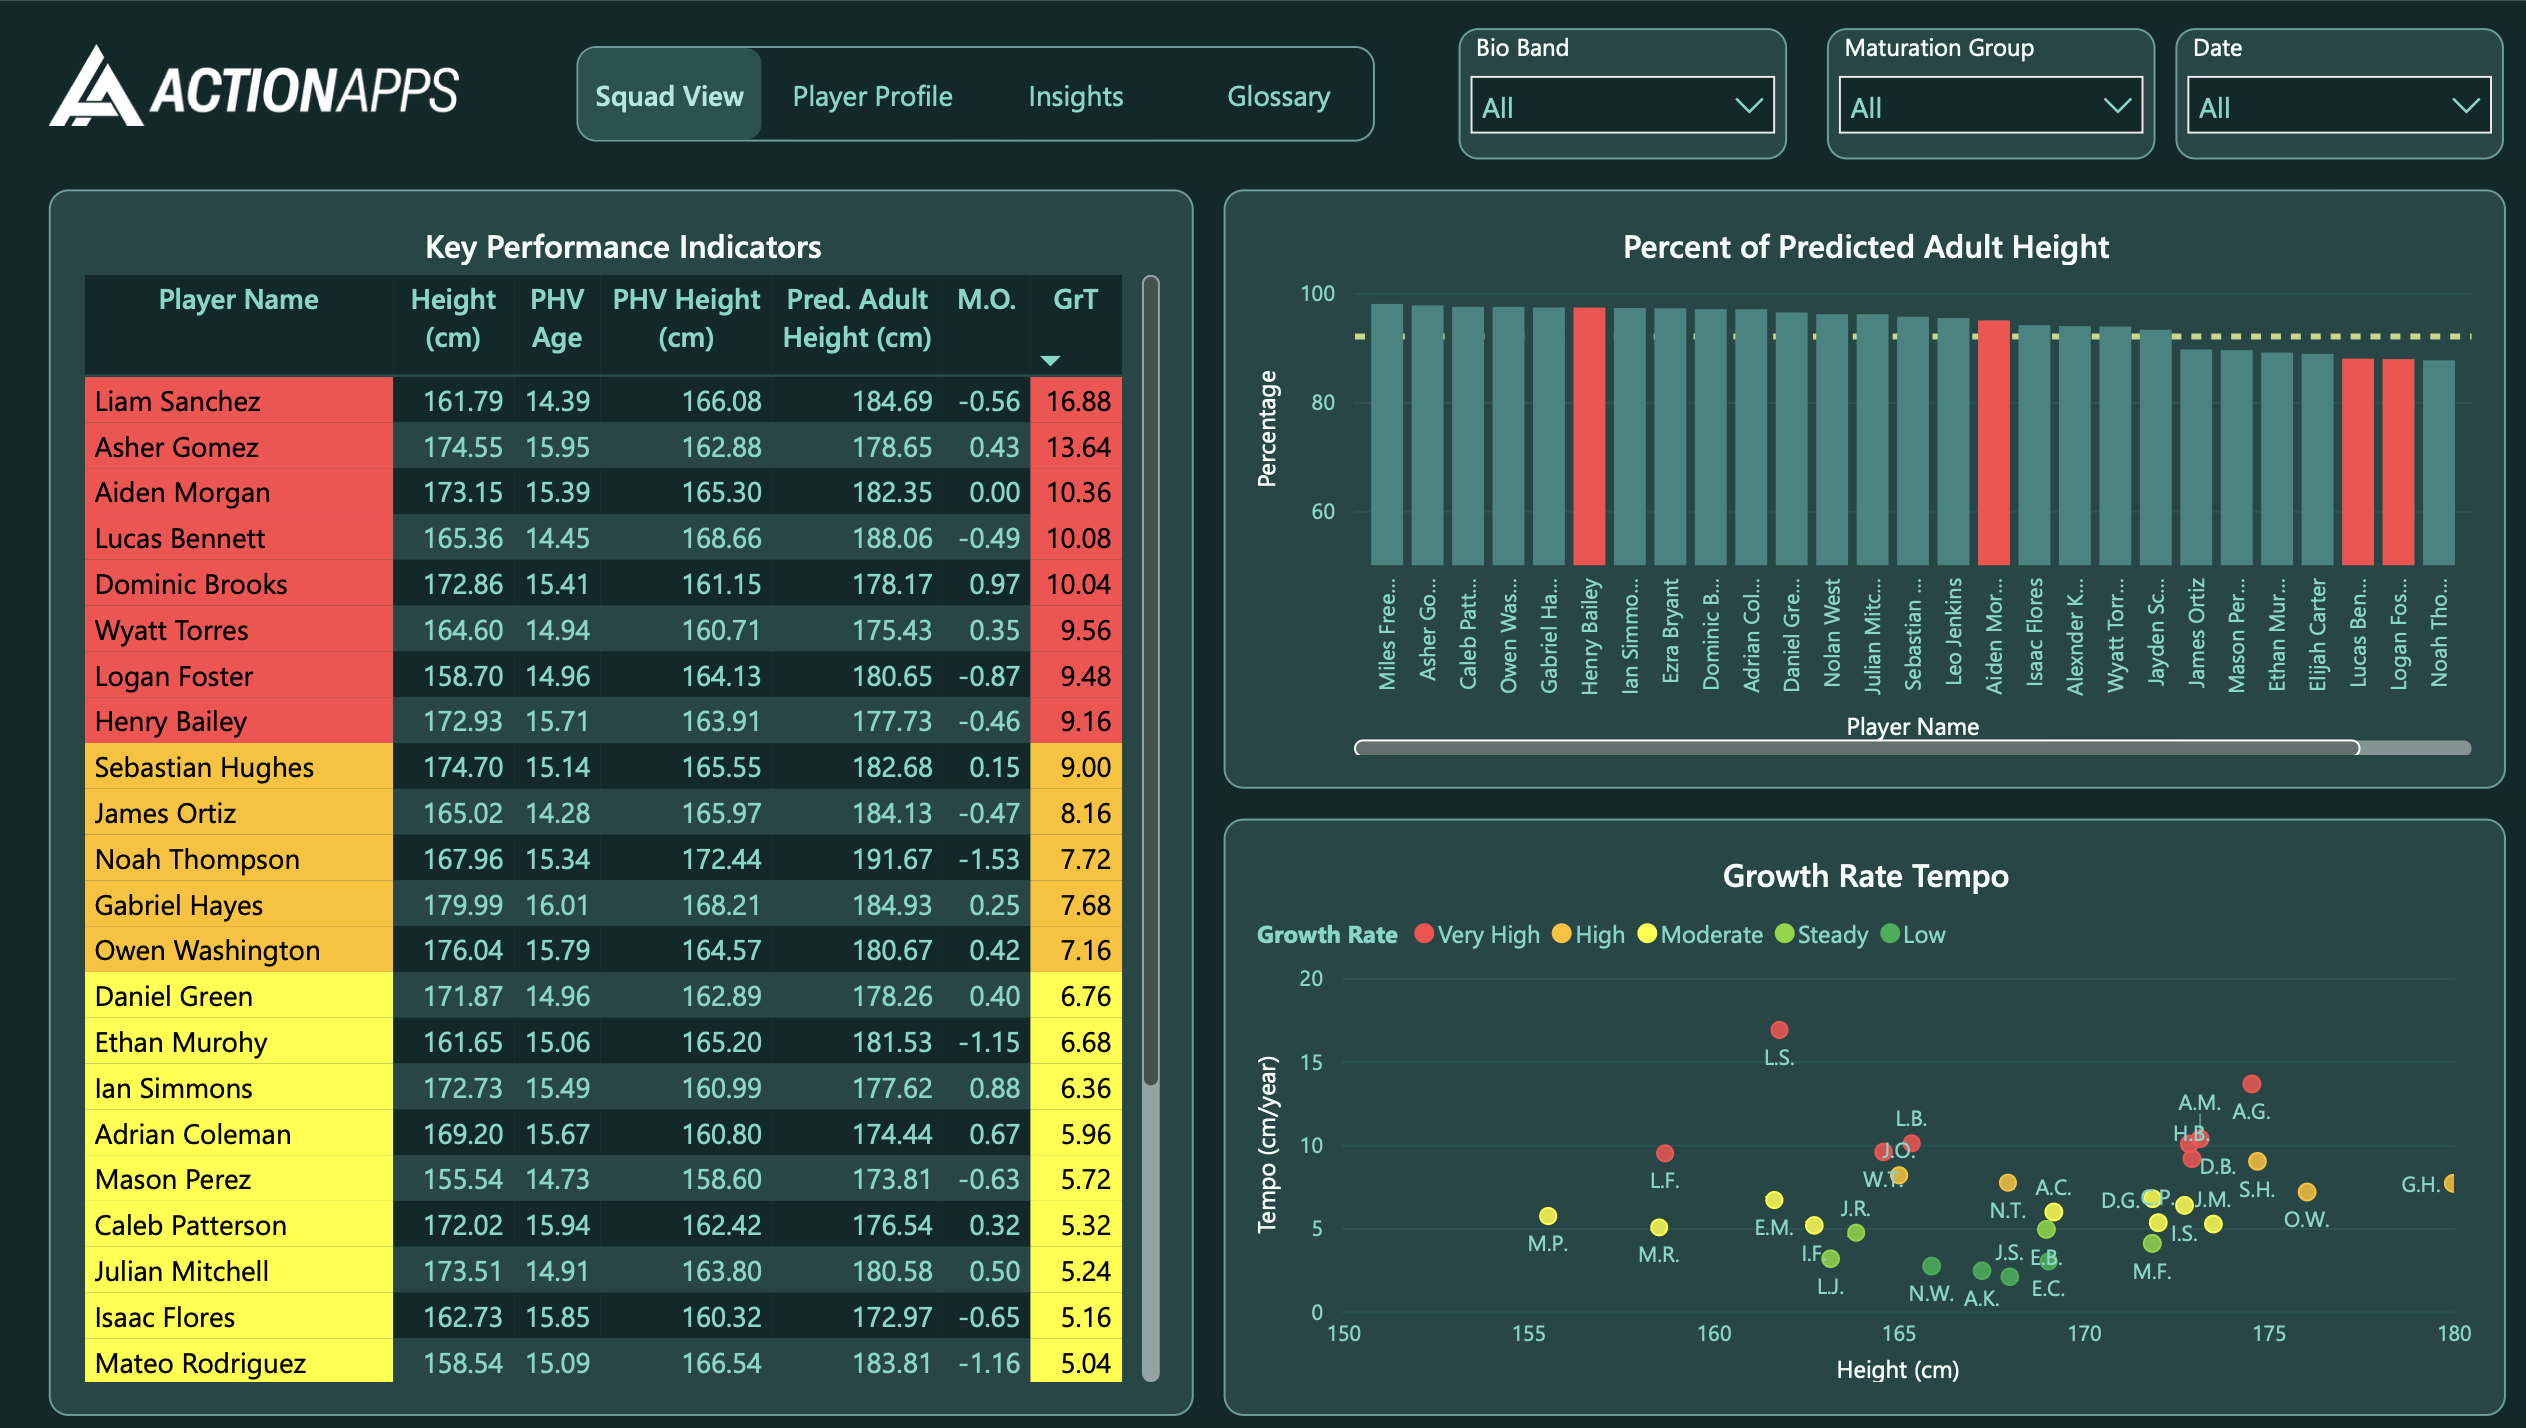

This screenshot's page, from the dashboard's own definition file:
{"tool":"powerbi","page":{"name":"Squad View","canvas":[1280,720],"ordinal":0},"visuals":[{"type":"tableEx","title":"Key Performance Indicators","fields":{"Values":["AM_HPP.Player Name","Avg(AM_HPP.Height (cm))","Avg(AM_HPP.PHVA Age)","Avg(AM_HPP.PHVA Height)","Avg(AM_HPP.Predicted Adult Height (cm))","Avg(AM_HPP.Maturity Offset)","Avg(AM_HPP.Growth Tempo)"]},"box":[25.2,95.1,575.4,616.5],"z":0},{"type":"slicer","fields":{"Values":["AM_HPP.Bio Band"]},"box":[733.5,14.4,165.2,65.5],"z":1000},{"type":"scatterChart","title":"Growth Rate Tempo","fields":{"Y":["Avg(AM_HPP.Growth Tempo)"],"Category":["AM_HPP.Initials"],"X":["Avg(AM_HPP.Height (cm))"],"Size":["Avg(AM_HPP.PAH100)"],"Series":["AM_HPP.GTRate"]},"box":[615,411.2,643.8,300],"z":2000},{"type":"clusteredColumnChart","title":"Percent of Predicted Adult Height","fields":{"Category":["AM_HPP.Player Name"],"Y":["Avg(AM_HPP.PAH100)"]},"box":[615,95,643.8,301.2],"z":3000},{"type":"image","box":[25.1,15.3,205.6,54.8],"z":4000},{"type":"pageNavigator","box":[290,23.3,401.3,48.5],"z":5000},{"type":"slicer","fields":{"Values":["AM_HPP.Group"]},"box":[917.5,14.4,165.2,65.5],"z":6000},{"type":"slicer","fields":{"Values":["AM_HPP.Time from TOA (months)"]},"box":[1093.5,14.4,165.2,65.5],"z":7000}]}

Visuals, with their boxes in screenshot pixels (x1, y1, x2, y2), scaled from the page's 1280x720 canvas onto the 2526x1428 screenshot:
"Key Performance Indicators" tableEx: 50:189:1185:1411
slicer - AM_HPP.Bio Band: 1448:29:1774:158
"Growth Rate Tempo" scatterChart: 1214:816:2484:1411
"Percent of Predicted Adult Height" clusteredColumnChart: 1214:188:2484:786
image: 50:30:455:139
pageNavigator: 572:46:1364:142
slicer - AM_HPP.Group: 1811:29:2137:158
slicer - AM_HPP.Time from TOA (months): 2158:29:2484:158
